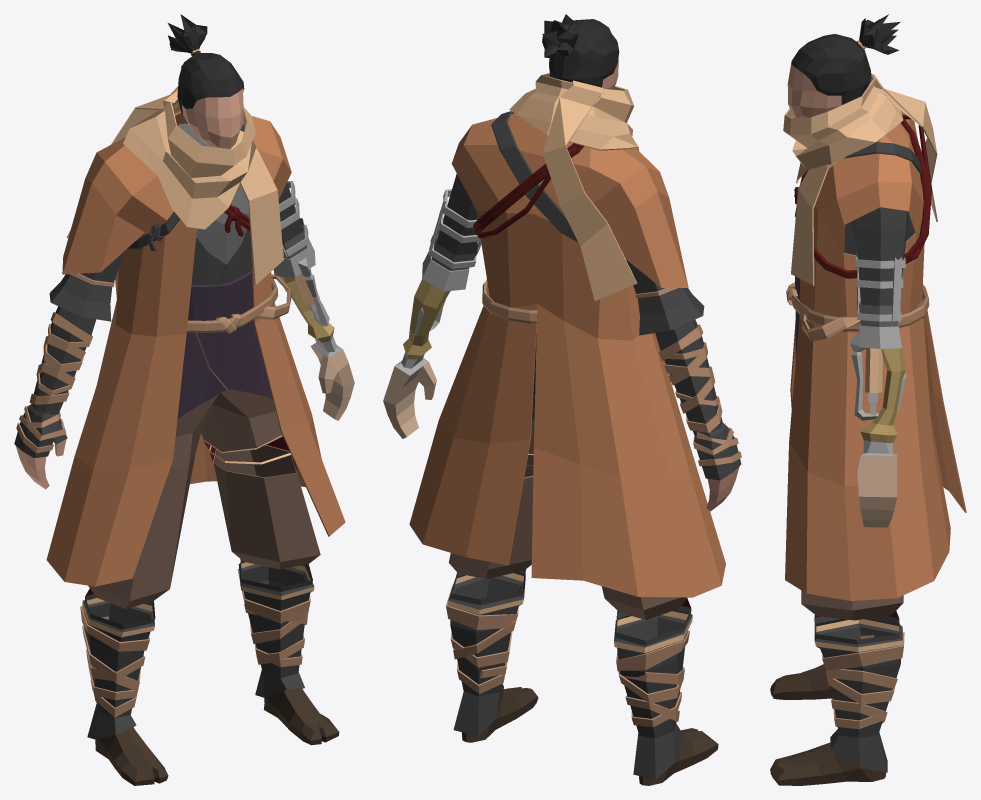
Rendered from Yasuo.glb.
The picture shows the model from 3 angles, left to right: view 1: azimuth 30°, elevation 25°; view 2: azimuth 150°, elevation 25°; view 3: azimuth 270°, elevation 25°; orthographic projection. The views are drawn at different scales.
Visible parts, largest first — view 1: Scarf; view 2: Scarf; view 3: Scarf.
Part boxes in pixels (x1,y1,x2,y2): Scarf: (14,14,354,785); Scarf: (383,14,741,785); Scarf: (770,14,966,785).
Bounding box in the file's own units: 0.8685 × 1.82 × 0.4504.
